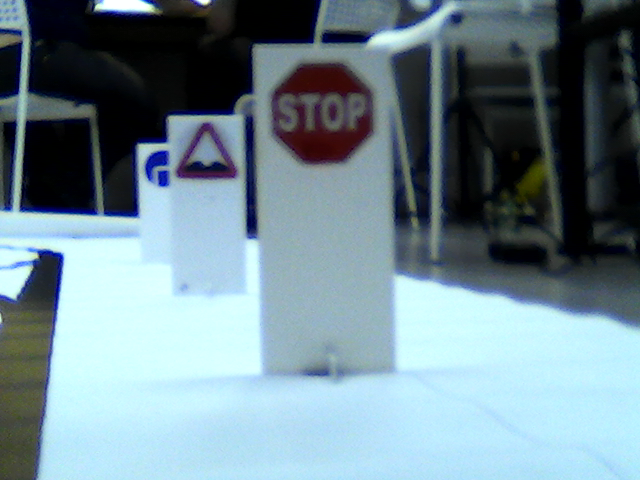Stop: (273, 64, 371, 161)
